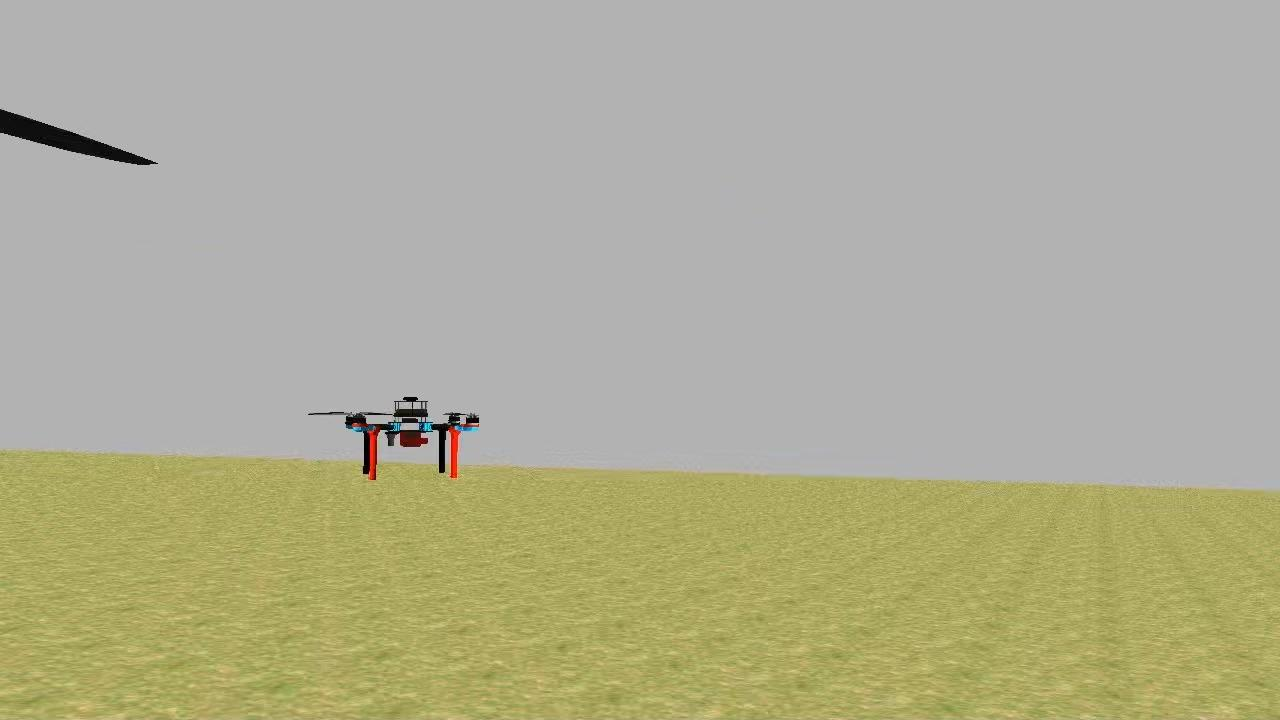UAV: (339, 389, 484, 497)
